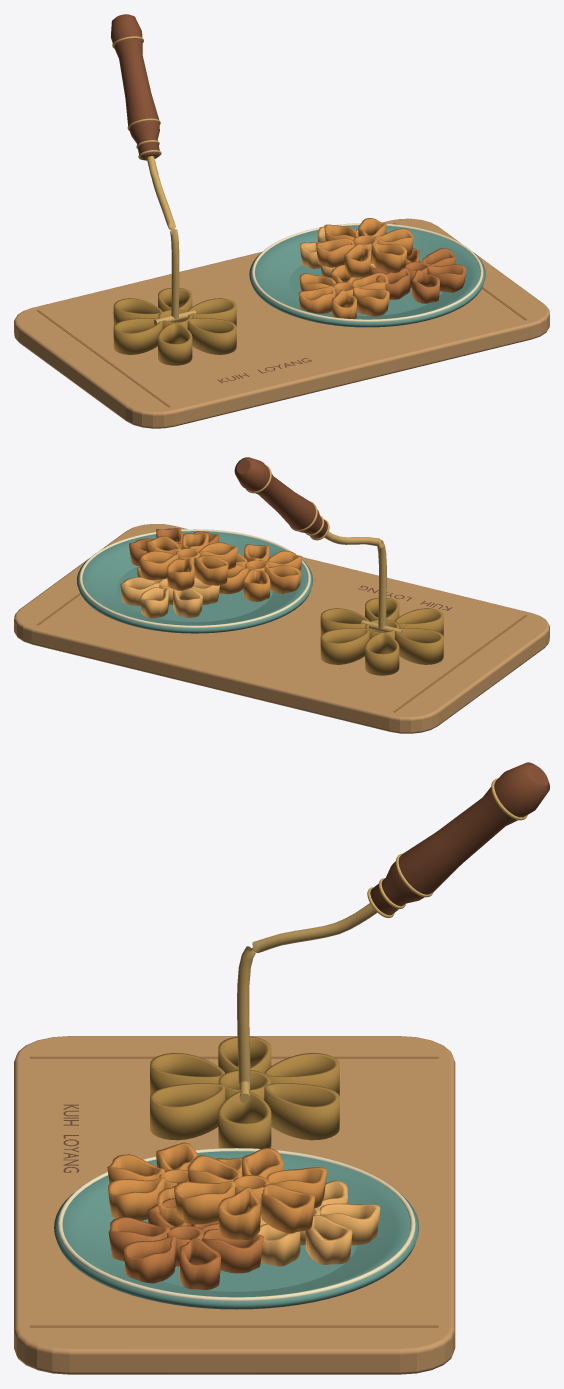
3 views of the same model, one above another, from view 1: azimuth 30°, elevation 25°; view 2: azimuth 150°, elevation 25°; view 3: azimuth 270°, elevation 25° (orthographic). The views are drawn at different scales.
Parts seen in each view (by area): view 1: Work board, Fried rosettes, Biscuit plate, Brass rosette, Iron tool; view 2: Work board, Fried rosettes, Biscuit plate, Brass rosette, Iron tool; view 3: Work board, Fried rosettes, Biscuit plate, Brass rosette, Iron tool.
Part boxes in pixels (bbox=[...]): Work board: bbox=[14, 218, 549, 428]; Fried rosettes: bbox=[298, 218, 466, 318]; Biscuit plate: bbox=[249, 223, 485, 327]; Brass rosette: bbox=[113, 288, 236, 365]; Iron tool: bbox=[110, 14, 196, 325]; Work board: bbox=[14, 524, 549, 733]; Fried rosettes: bbox=[120, 528, 302, 618]; Biscuit plate: bbox=[77, 529, 313, 633]; Brass rosette: bbox=[320, 597, 443, 675]; Iron tool: bbox=[234, 457, 403, 635]; Work board: bbox=[14, 1036, 455, 1374]; Fried rosettes: bbox=[107, 1142, 380, 1289]; Biscuit plate: bbox=[54, 1148, 419, 1309]; Brass rosette: bbox=[150, 1036, 339, 1148]; Iron tool: bbox=[237, 762, 549, 1102].
Size of the model in its own units: 0.365 by 0.2187 by 0.2612.
